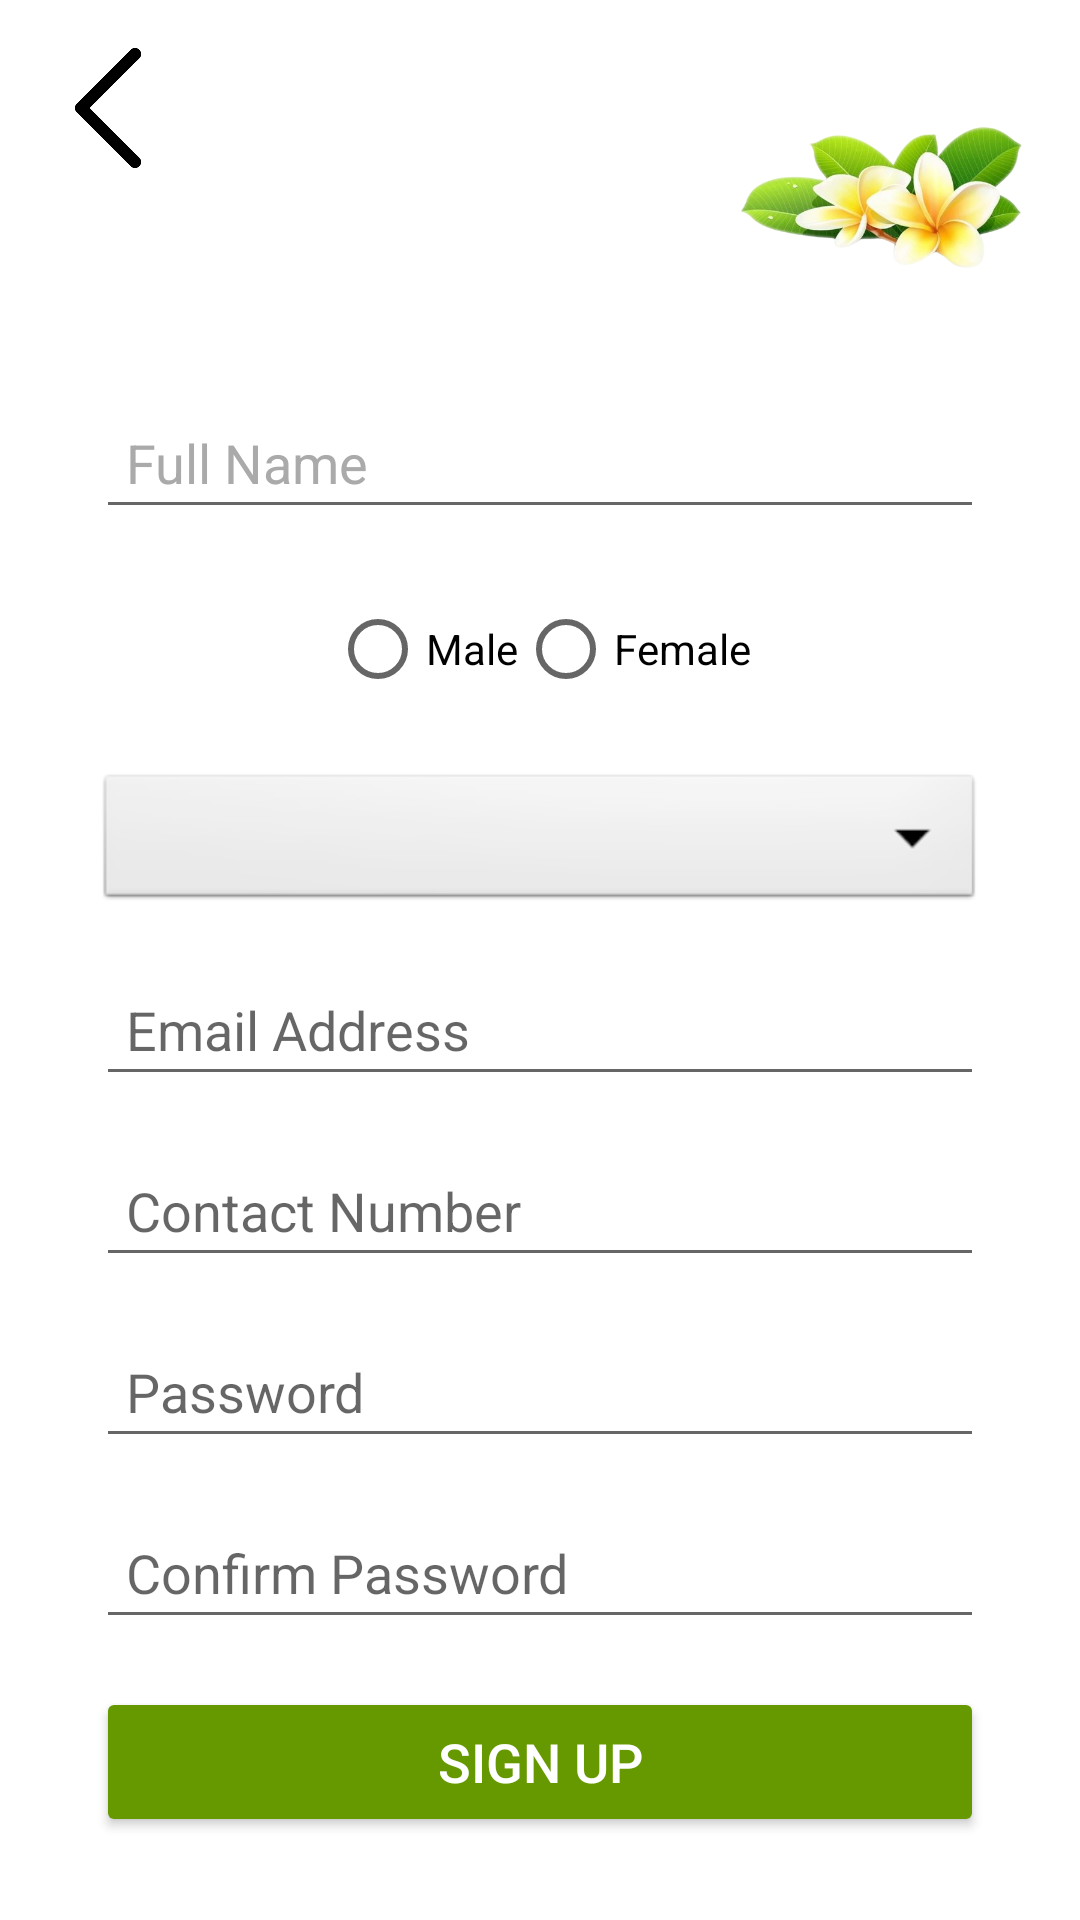

Icon bounding boxes for this 1080px x 1920px phone screenshot, format box=[x1, y1, x2, y2]:
Back Button: box=[75, 48, 141, 168]
flower: box=[741, 127, 1022, 267]
